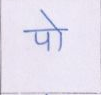o_matra: (48, 14, 64, 51)
